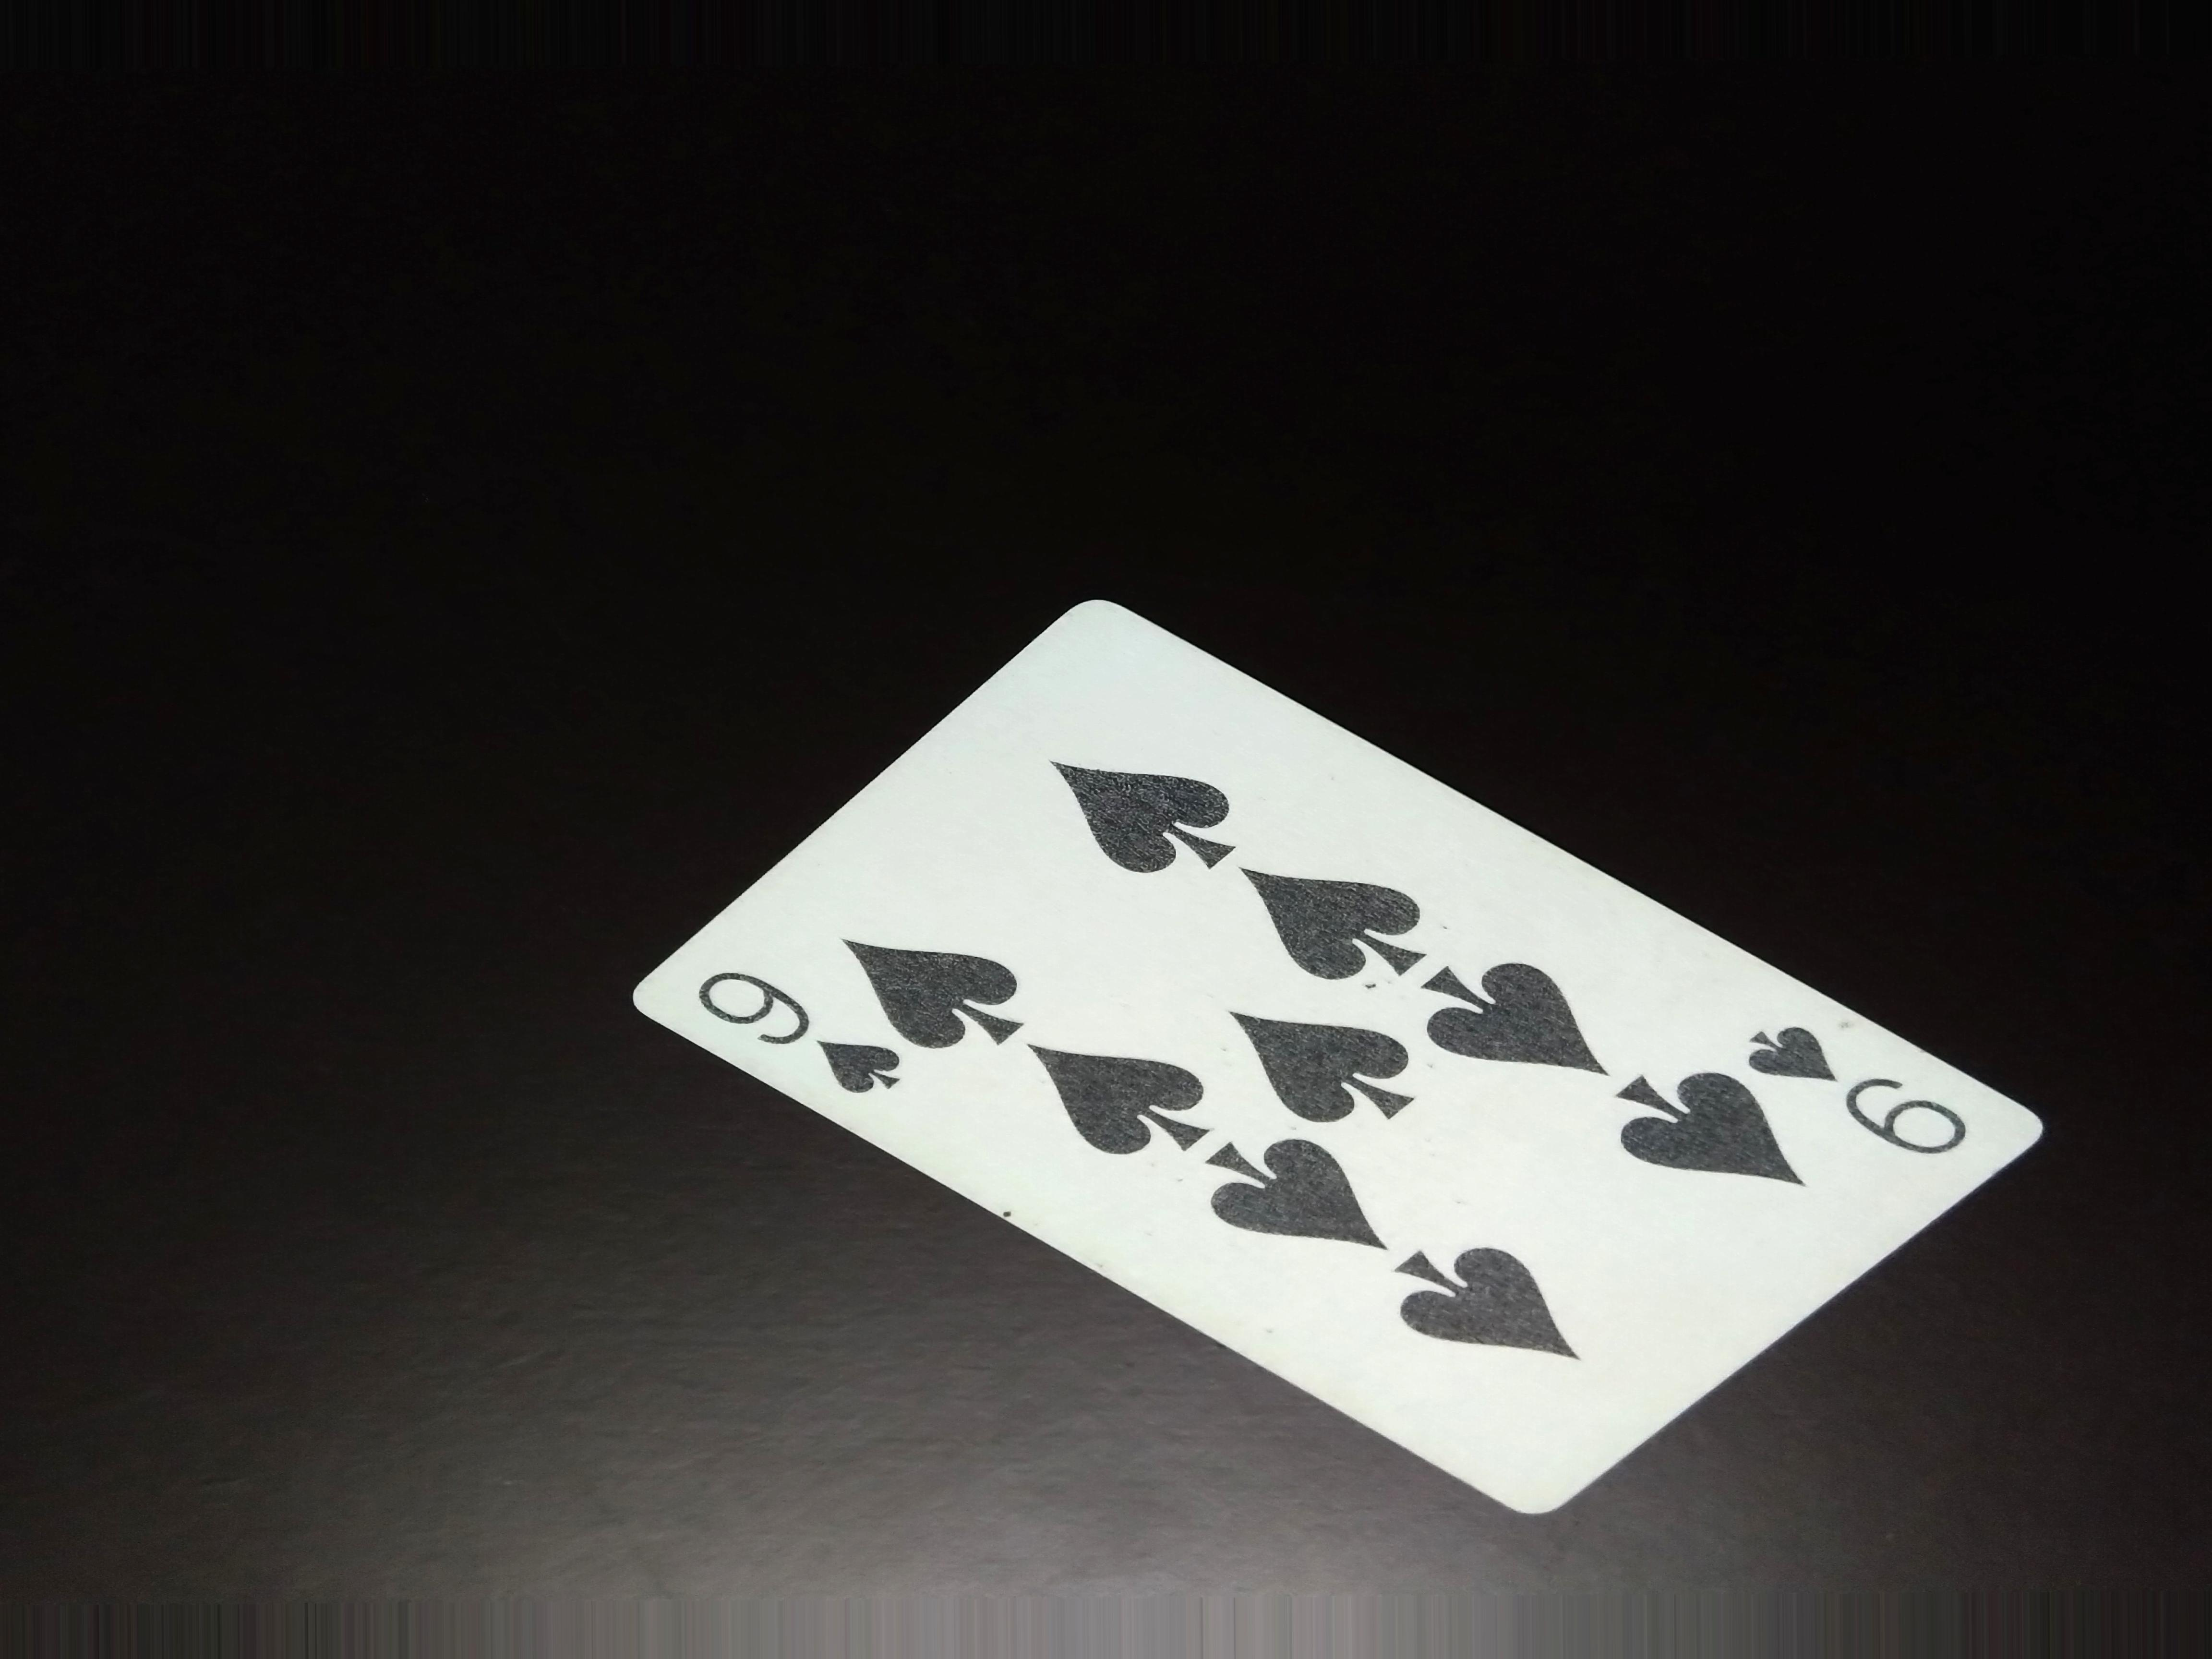9S: (1738, 1004, 1984, 1209)
